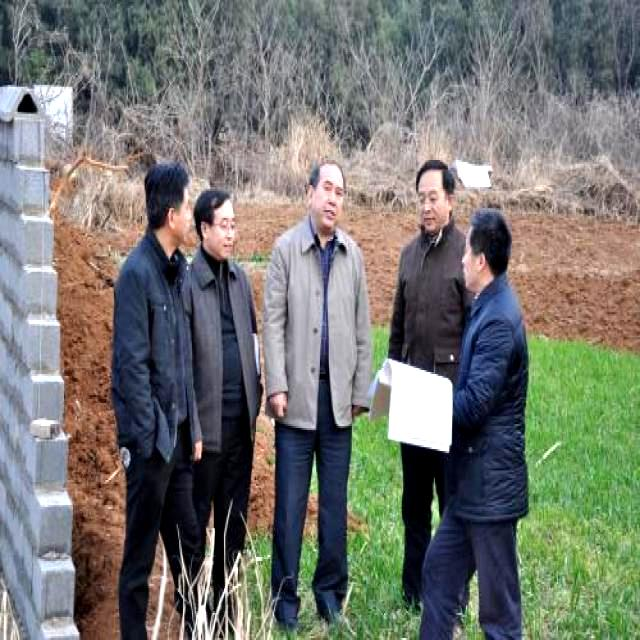no_head_wear: (468, 206, 511, 270), (145, 160, 188, 210), (193, 189, 229, 237), (415, 160, 454, 193), (307, 160, 347, 192)
person: (264, 162, 370, 630), (420, 210, 527, 638), (372, 160, 468, 607), (112, 162, 200, 638), (186, 189, 261, 598)
